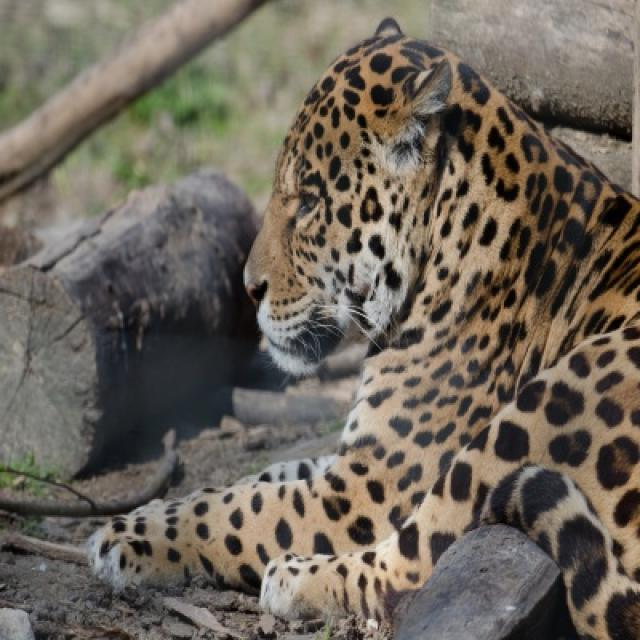Jaguar: (80, 18, 638, 638)
